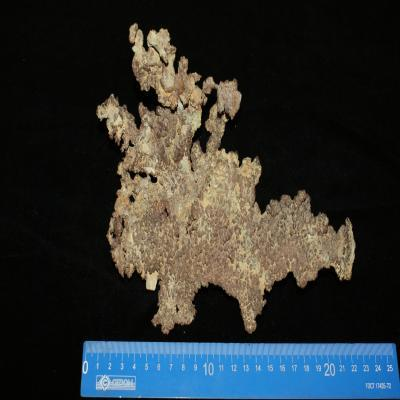mineralogy: (96, 24, 377, 336)
